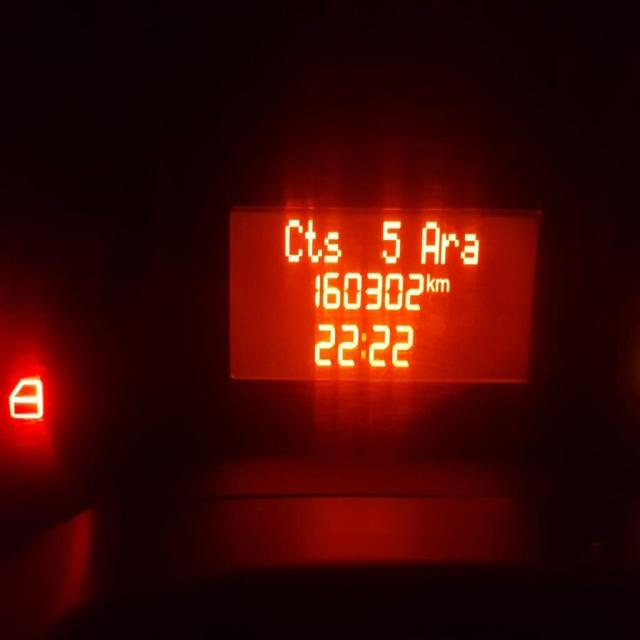odometer: (224, 204, 546, 392)
